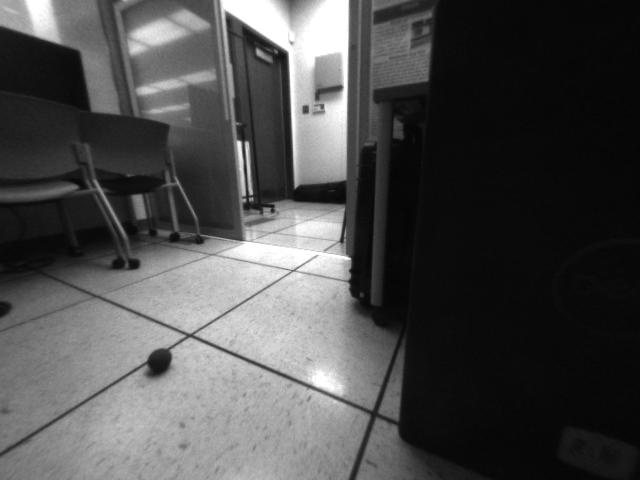dogtoy: (143, 342, 179, 380)
